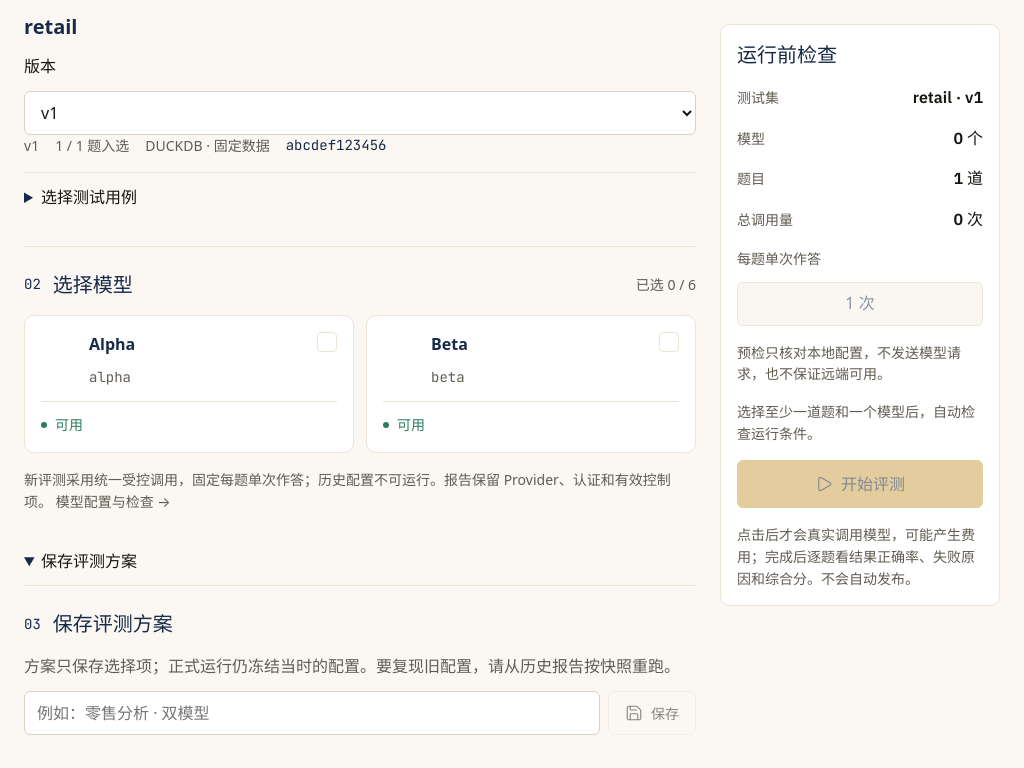
Test case: 新建评测门禁 › 只有当前选择通过预检才能开赛，新增不健康模型后重新锁定
This screenshot has width=1024, height=768.
(page scrolled)
expect the button "开始评测" is disabled: met, box [737,461,983,509]
Click the button "Alpha alpha 可用".
click(112, 344)  # box [24,315,354,453]
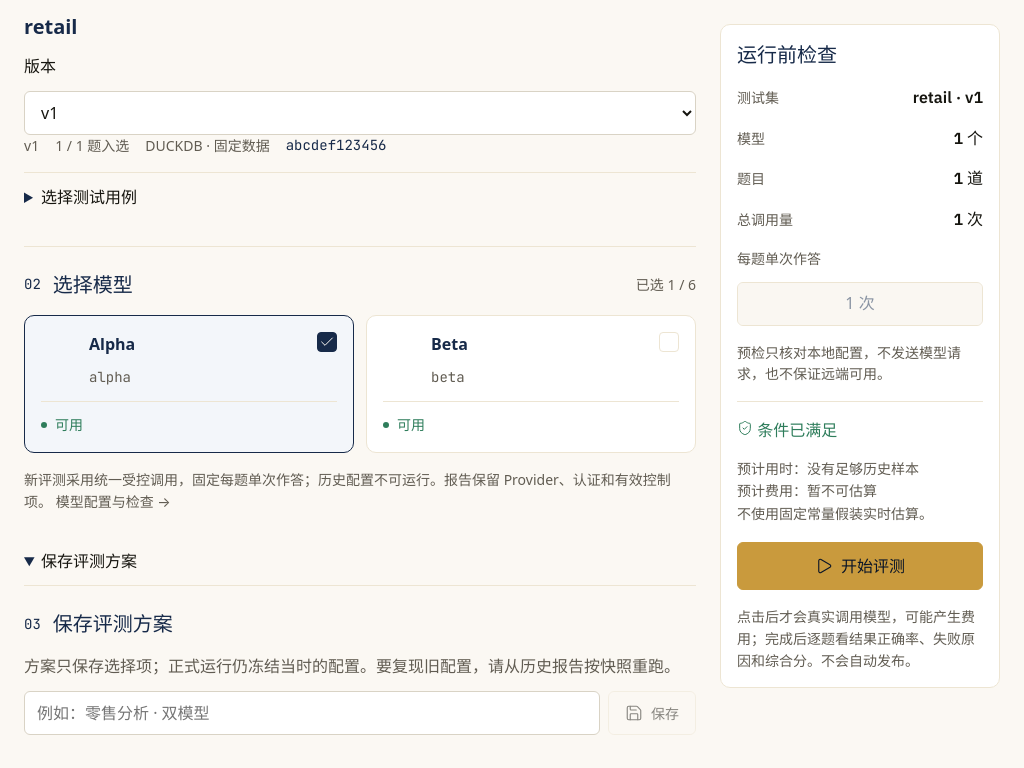
expect the button "开始评测" is enabled: met, box [737,542,983,590]
Click the button "Beta beta 可用".
click(449, 344)  # box [366,315,696,453]
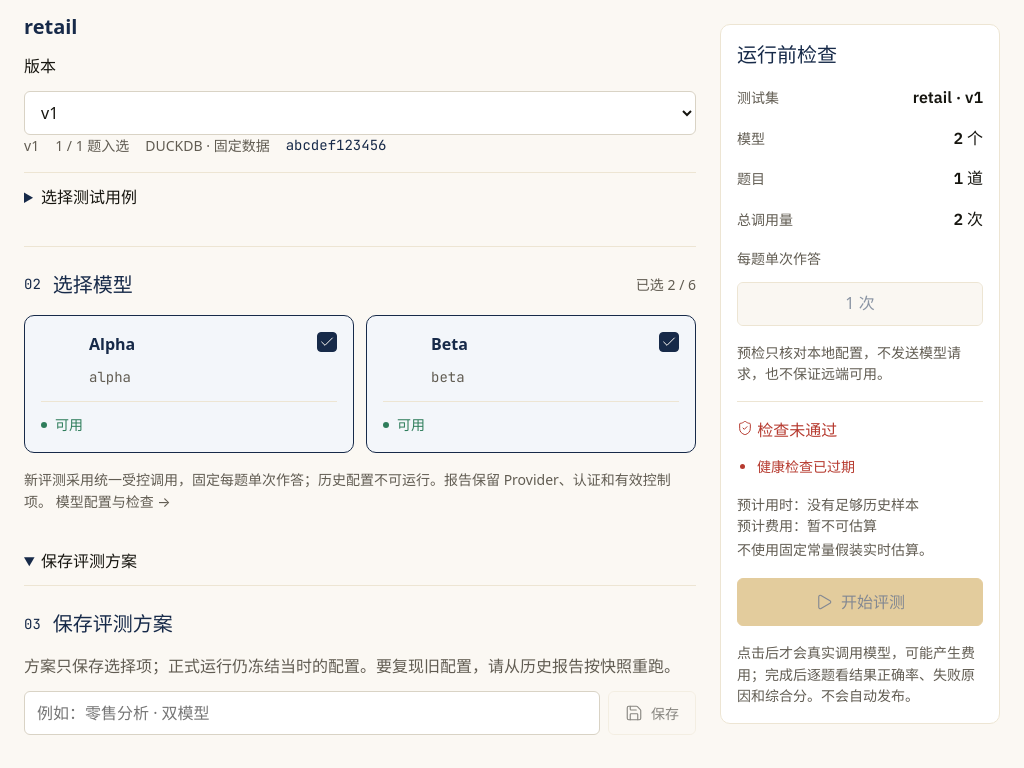
expect the list item "健康检查已过期" is shown: met, box [757,457,855,476]
expect the button "开始评测" is disabled: met, box [737,578,983,626]
Click the button "Beta beta 可用".
click(449, 344)  # box [366,315,696,453]
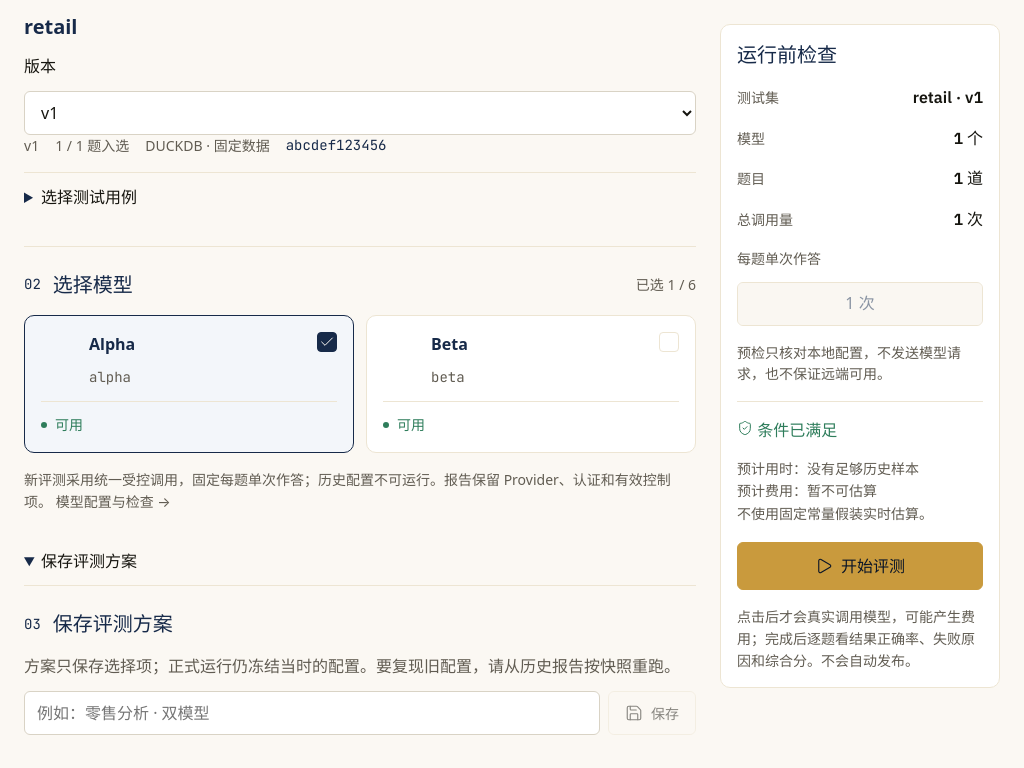
expect the button "开始评测" is enabled: met, box [737,542,983,590]
